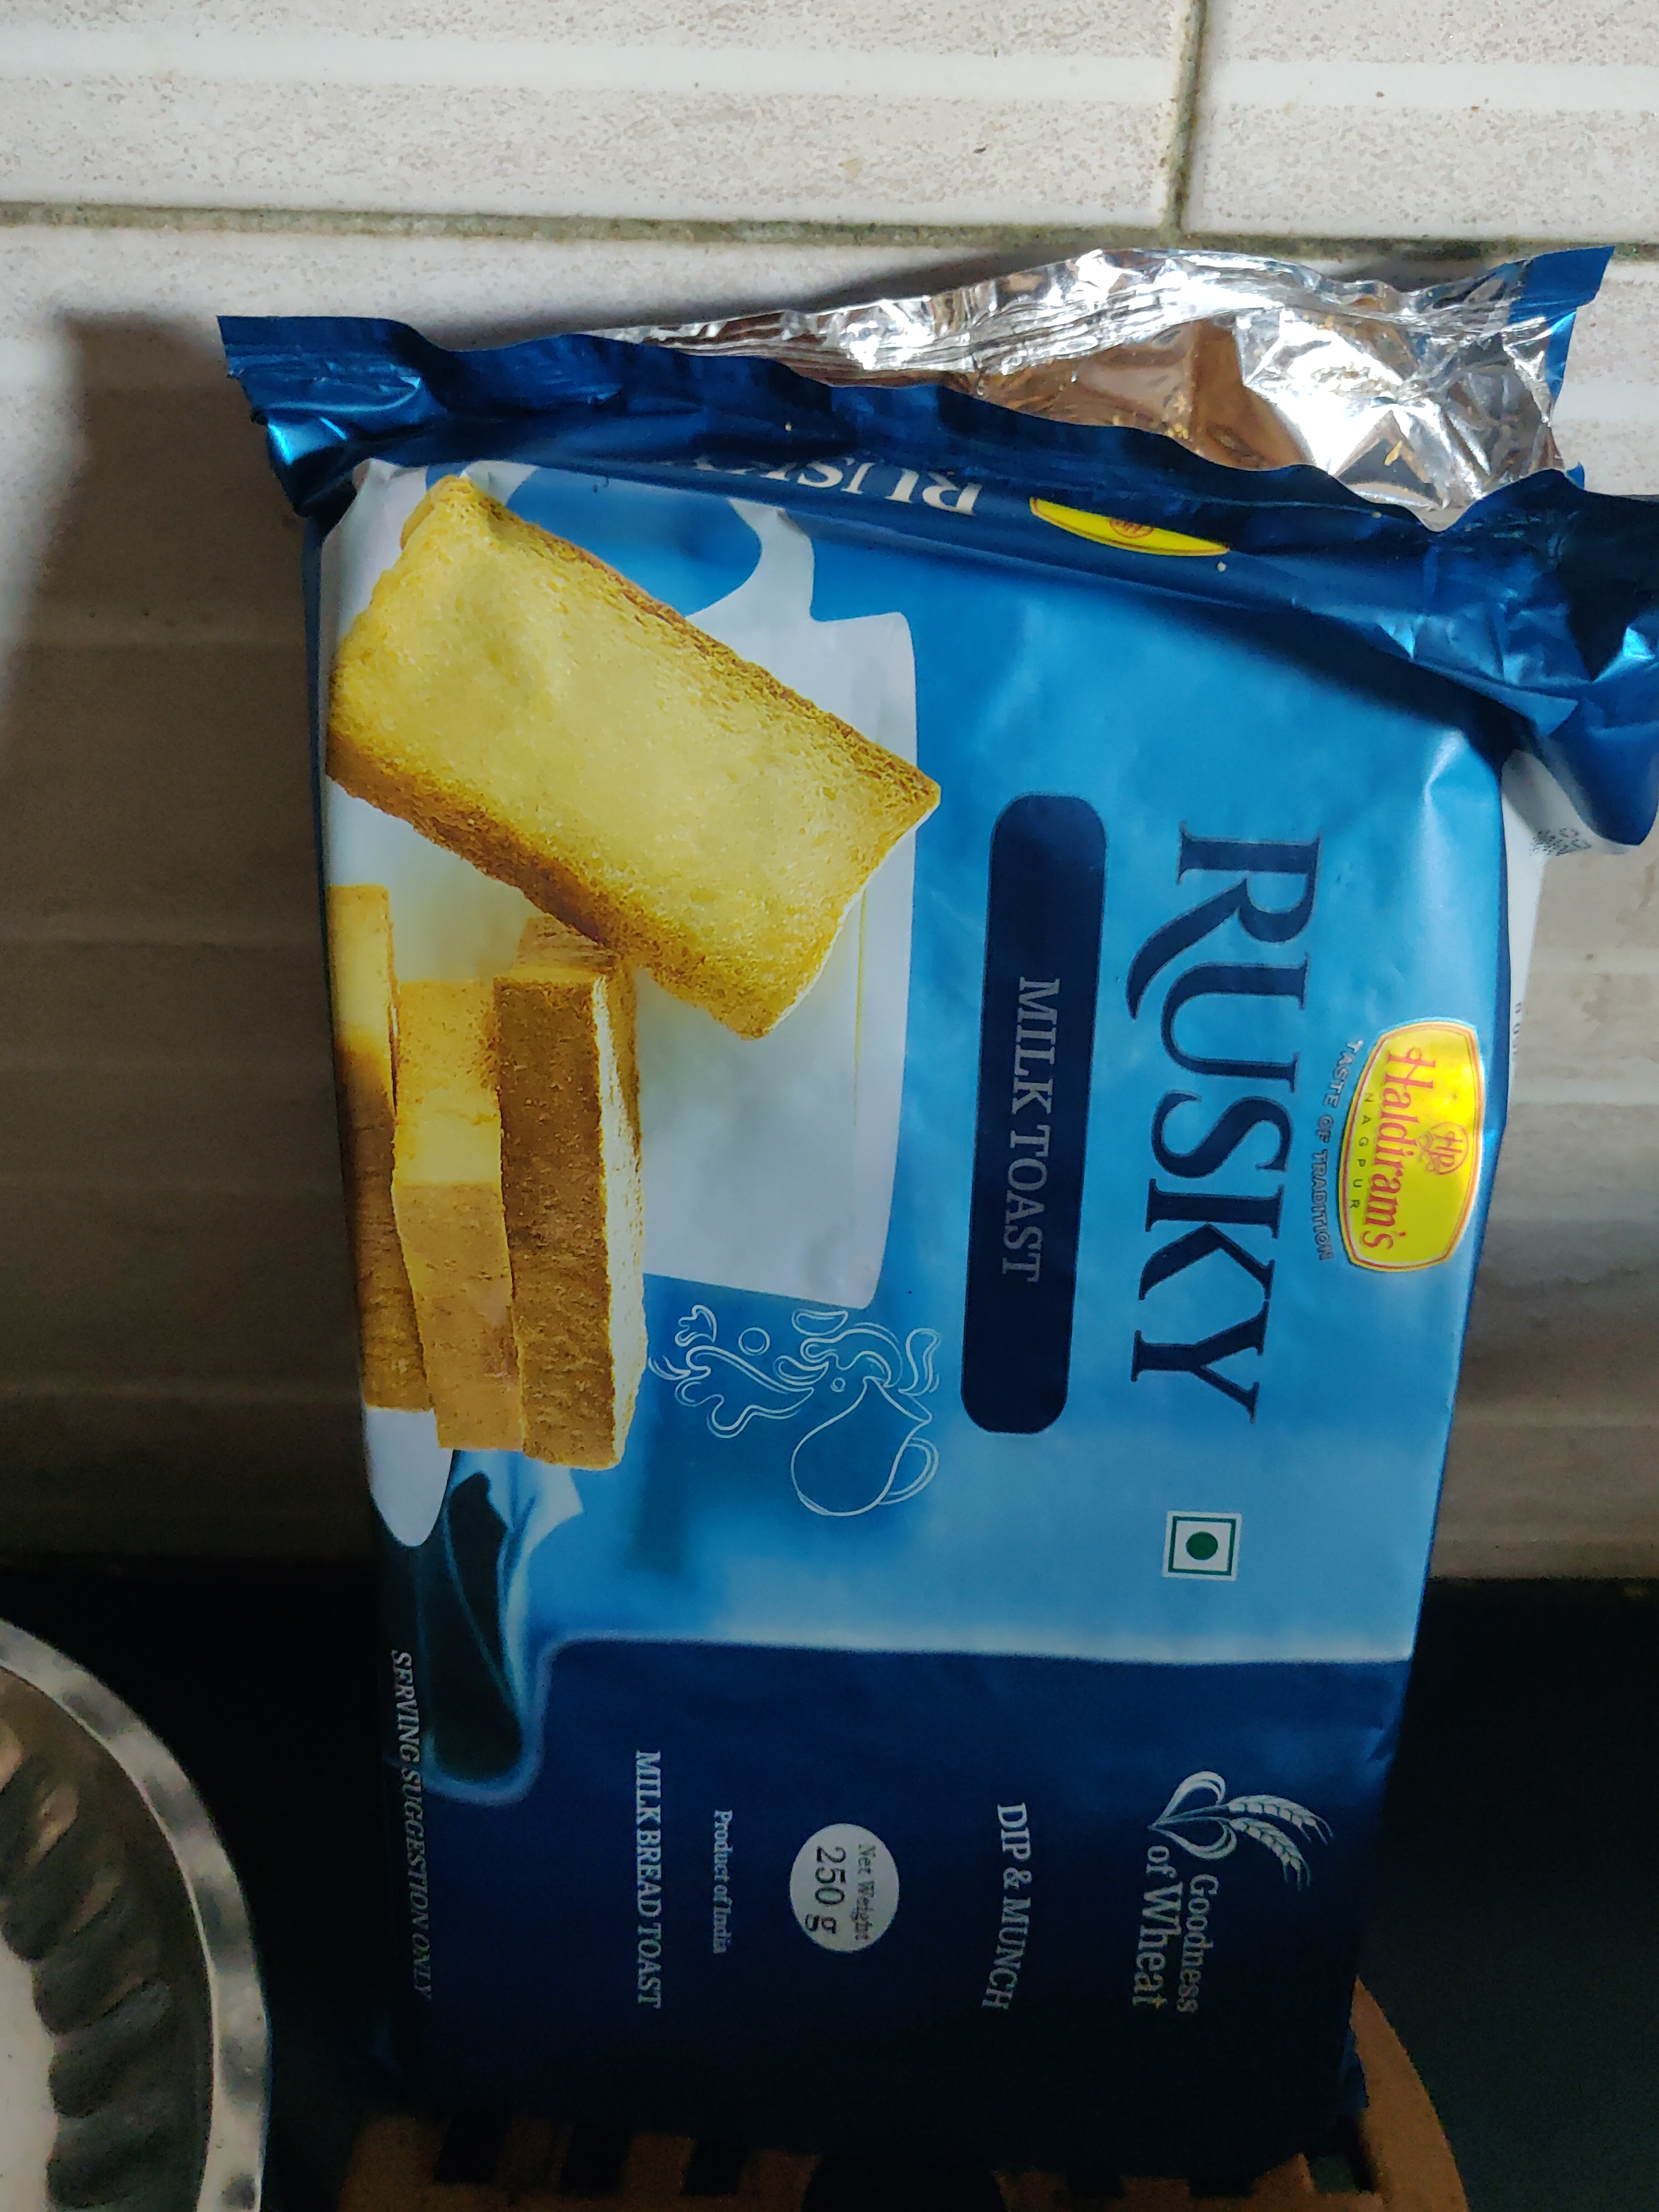food: (204, 223, 1654, 2184)
